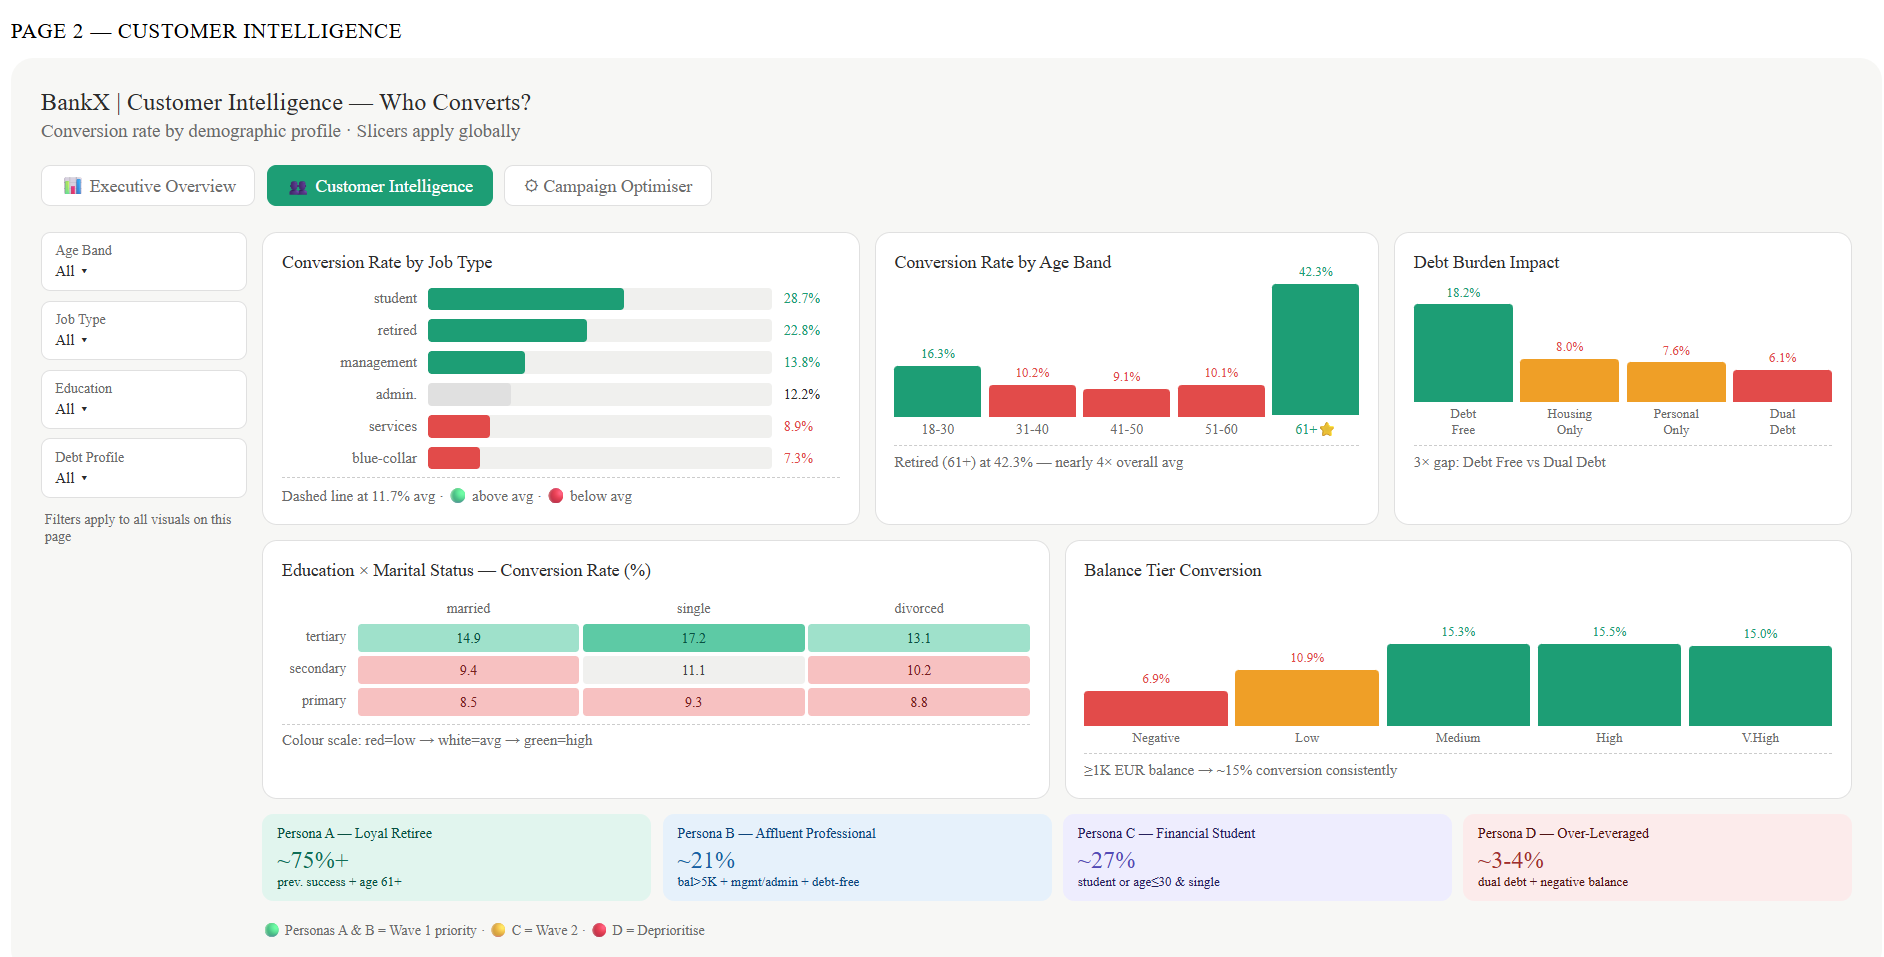

This screenshot's page, from the dashboard's own definition file:
{"tool":"powerbi","page":{"name":"Customer Intelligence","canvas":[1280,720],"ordinal":1},"visuals":[{"type":"textbox","box":[0,0,598.3,70],"z":0},{"type":"textbox","box":[9.6,35.7,649.1,34.3],"z":1000},{"type":"slicer","fields":{"Values":["bank_analysis.age_band"]},"box":[9.6,127.6,192.1,91.9],"z":3001},{"type":"slicer","fields":{"Values":["bank_analysis.job"]},"box":[9.6,242.9,192.1,91.9],"z":3002},{"type":"slicer","fields":{"Values":["bank_analysis.education"]},"box":[9.6,348.5,192.1,91.9],"z":3003},{"type":"slicer","fields":{"Values":["bank_analysis.debt_burden_flag"]},"box":[9.6,463.8,192.1,91.9],"z":3004},{"type":"clusteredBarChart","fields":{"Category":["bank_analysis.job"],"Y":["Sum(segment_summary.Conversion_Rate_Pct)"]},"box":[269,145.5,304.6,249.7],"z":3005},{"type":"clusteredColumnChart","fields":{"Category":["bank_analysis.age_band"],"Y":["_Measures.Segment Conversion Rate %"]},"box":[620.2,122.1,304.6,249.7],"z":3006},{"type":"pivotTable","fields":{"Rows":["bank_analysis.education"],"Columns":["bank_analysis.marital"],"Values":["_Measures.Segment Conversion Rate %"]},"box":[269,406.2,304.6,161.9],"z":3007},{"type":"clusteredColumnChart","fields":{"Category":["bank_analysis.debt_burden_flag"],"Y":["_Measures.Segment Conversion Rate %"]},"box":[620.2,400.7,304.6,182.5],"z":3008},{"type":"clusteredColumnChart","fields":{"Category":["bank_analysis.balance_tier"],"Y":["_Measures.Segment Conversion Rate %"]},"box":[972.9,127.6,293.7,249.7],"z":3009},{"type":"cardVisual","fields":{"Data":["_Measures.Conversion Rate %"]},"box":[269,581.8,215.4,124.9],"z":3010},{"type":"cardVisual","fields":{"Data":["_Measures.Conversion Rate %"]},"box":[532.4,583.2,215.4,124.9],"z":3011},{"type":"cardVisual","fields":{"Data":["_Measures.Conversion Rate %"]},"box":[783.5,581.8,215.4,124.9],"z":3012},{"type":"cardVisual","fields":{"Data":["_Measures.Conversion Rate %"]},"box":[1011.3,581.8,215.4,124.9],"z":3013},{"type":"pageNavigator","box":[9.6,70,599.7,49.4],"z":3014}]}

Visuals, with their boxes on the page's 1280x720 design canvas (x1, y1, x2, y2). These are canvas units, not pixel positions in the 1884x957 screenshot, which may show the page scaled, cropped or inside an application window:
textbox: pyautogui.locateOnScreen(0, 0, 598, 70)
textbox: pyautogui.locateOnScreen(10, 36, 659, 70)
slicer - bank_analysis.age_band: pyautogui.locateOnScreen(10, 128, 202, 220)
slicer - bank_analysis.job: pyautogui.locateOnScreen(10, 243, 202, 335)
slicer - bank_analysis.education: pyautogui.locateOnScreen(10, 348, 202, 440)
slicer - bank_analysis.debt_burden_flag: pyautogui.locateOnScreen(10, 464, 202, 556)
clusteredBarChart - bank_analysis.job x Sum(segment_summary.Conversion_Rate_Pct): pyautogui.locateOnScreen(269, 146, 574, 395)
clusteredColumnChart - bank_analysis.age_band x _Measures.Segment Conversion Rate %: pyautogui.locateOnScreen(620, 122, 925, 372)
pivotTable - bank_analysis.education x bank_analysis.marital: pyautogui.locateOnScreen(269, 406, 574, 568)
clusteredColumnChart - bank_analysis.debt_burden_flag x _Measures.Segment Conversion Rate %: pyautogui.locateOnScreen(620, 401, 925, 583)
clusteredColumnChart - bank_analysis.balance_tier x _Measures.Segment Conversion Rate %: pyautogui.locateOnScreen(973, 128, 1267, 377)
cardVisual - _Measures.Conversion Rate %: pyautogui.locateOnScreen(269, 582, 484, 707)
cardVisual - _Measures.Conversion Rate %: pyautogui.locateOnScreen(532, 583, 748, 708)
cardVisual - _Measures.Conversion Rate %: pyautogui.locateOnScreen(784, 582, 999, 707)
cardVisual - _Measures.Conversion Rate %: pyautogui.locateOnScreen(1011, 582, 1227, 707)
pageNavigator: pyautogui.locateOnScreen(10, 70, 609, 119)
